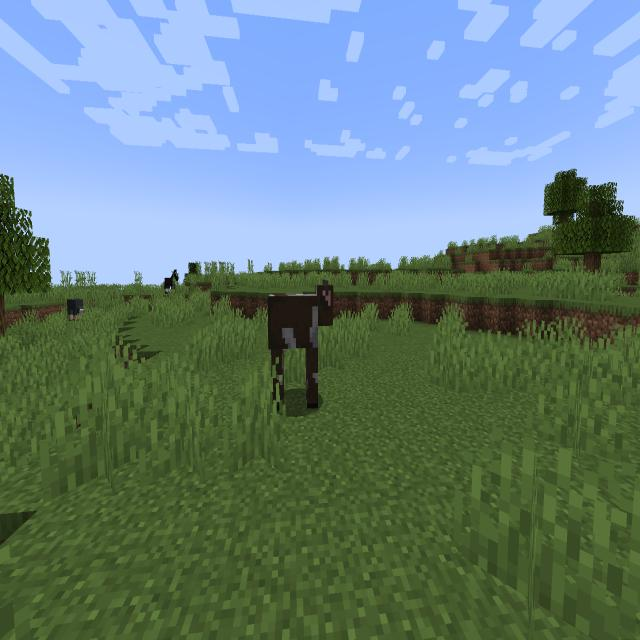cow: (261, 271, 339, 424)
